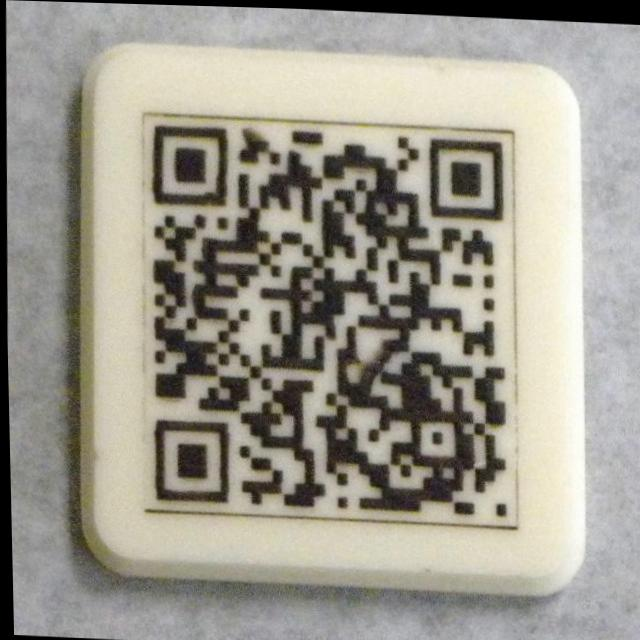qrcode: (147, 125, 511, 514)
